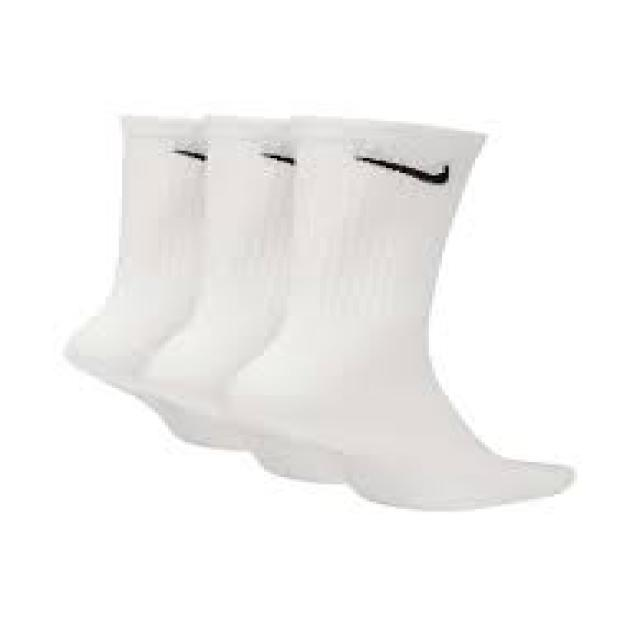sock: (63, 111, 577, 512)
